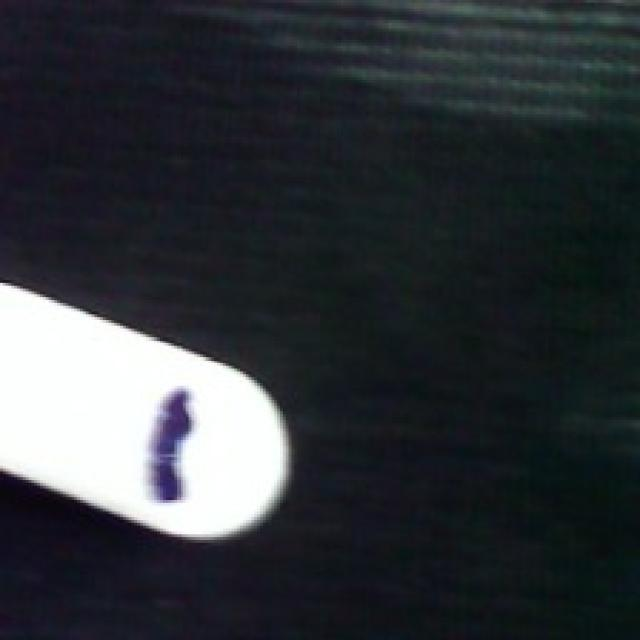defected: (0, 283, 294, 543)
